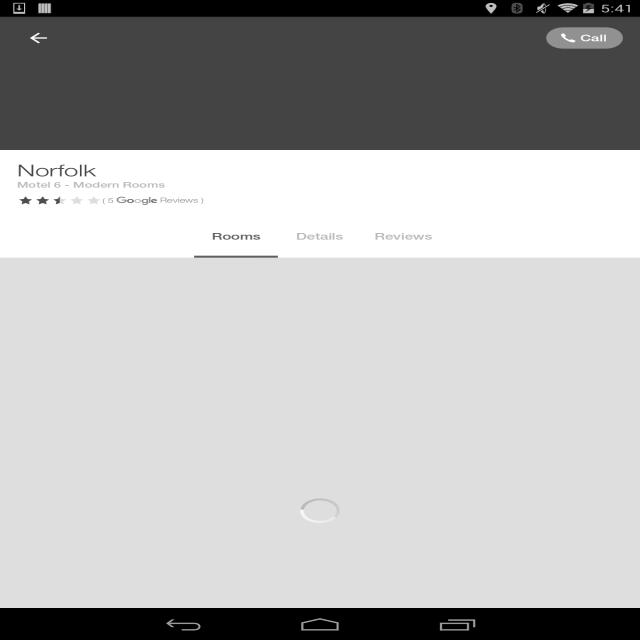Button: (520, 334, 614, 358), (520, 454, 614, 478), (520, 574, 614, 598)
ImageButton: (9, 17, 68, 59)
ImageView: (0, 17, 640, 150), (0, 262, 166, 326), (0, 382, 166, 446), (0, 502, 166, 566), (114, 195, 160, 207)
RatingBar: (17, 195, 102, 204)
TextView: (17, 161, 623, 180), (183, 274, 560, 299), (183, 394, 560, 419), (183, 514, 560, 539), (26, 334, 503, 348), (26, 454, 503, 468), (26, 574, 503, 588), (546, 27, 623, 49), (26, 356, 96, 378), (26, 476, 96, 498), (26, 596, 96, 618), (17, 180, 165, 190), (576, 268, 632, 283), (576, 388, 632, 403), (576, 508, 632, 523), (374, 231, 432, 242), (211, 231, 260, 242), (296, 231, 343, 242), (160, 195, 204, 204), (103, 195, 114, 205)
